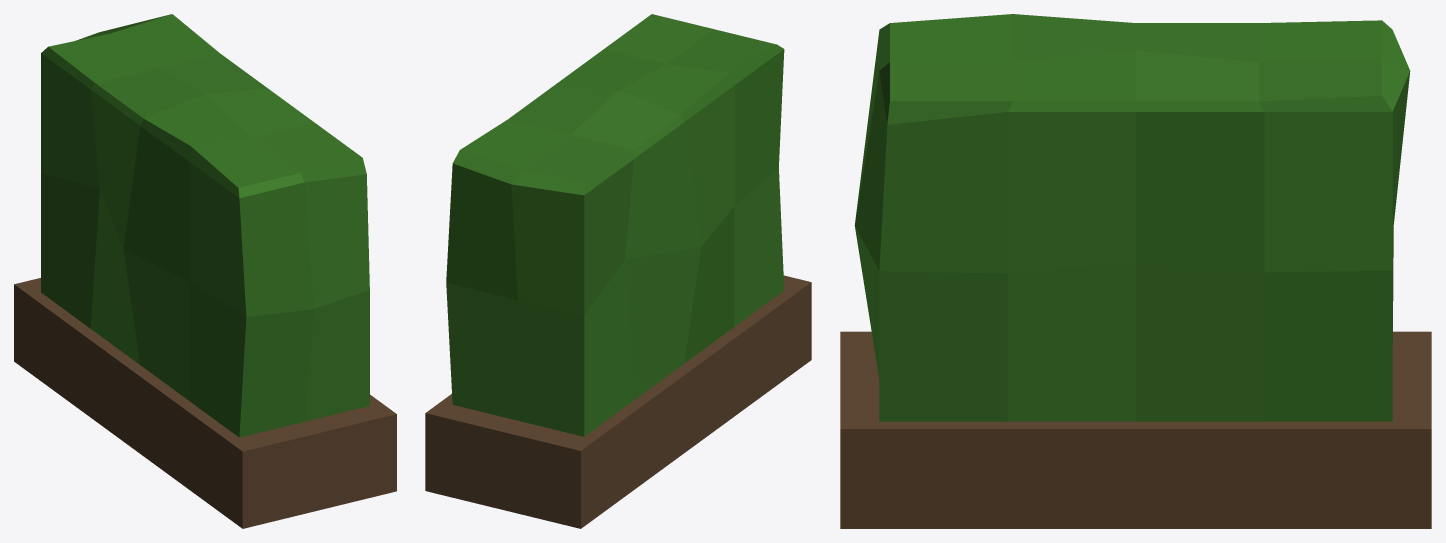
File: Hedges_02.fbx
3 renders of one model, left to right at view 1: azimuth 30°, elevation 25°; view 2: azimuth 150°, elevation 25°; view 3: azimuth 270°, elevation 25°, orthographic. The views are drawn at different scales.
Visible parts, largest first — view 1: polySurface9; view 2: polySurface9; view 3: polySurface9.
Part boxes in pixels (<box>): polySurface9: <box>14,14,396,528</box>; polySurface9: <box>425,14,811,528</box>; polySurface9: <box>840,14,1431,528</box>.
Bounding box in the file's own units: 88.4 × 176 × 220.
